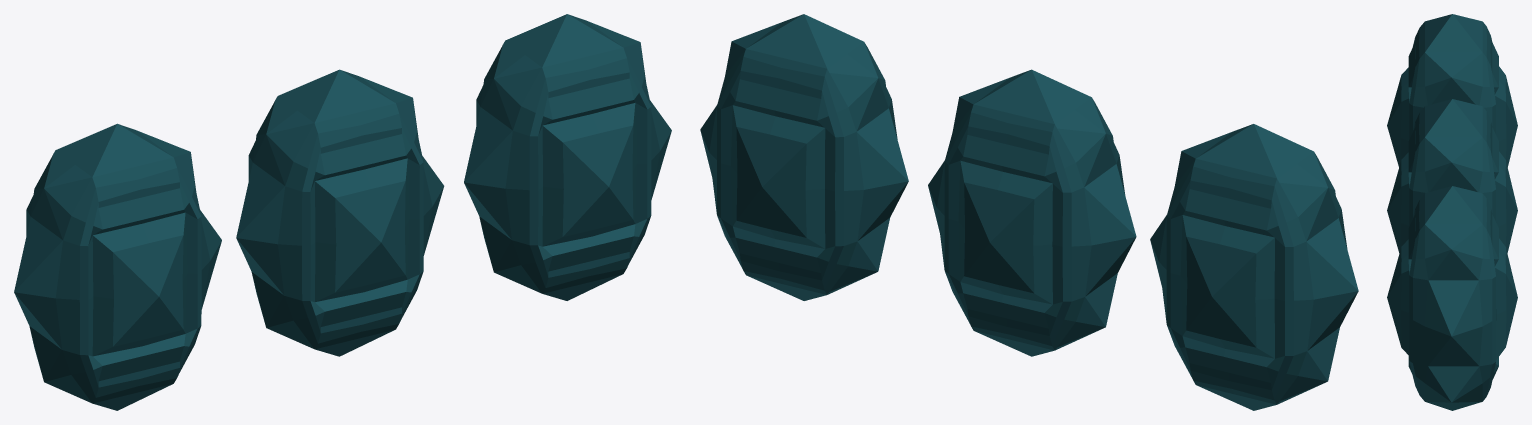
File: 3 gems side by side.fbx
3 views of the same model, side by side, from view 1: azimuth 30°, elevation 25°; view 2: azimuth 150°, elevation 25°; view 3: azimuth 270°, elevation 25° (orthographic). The views are drawn at different scales.
Parts seen in each view (by area): view 1: pCube10; view 2: pCube10; view 3: pCube10.
Boxes of the visible parts, x1,y1,x2,y2 form: pCube10: [14, 14, 671, 410]; pCube10: [700, 14, 1358, 410]; pCube10: [1387, 14, 1517, 410].
Size of the model in its own units: 5.67 by 2.36 by 1.25.
